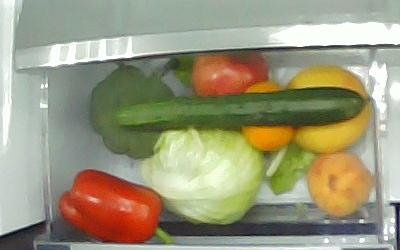apple: (191, 50, 268, 97)
broccoli: (90, 65, 176, 157)
cucumber: (113, 86, 366, 133)
grapefruit: (286, 66, 370, 153)
lettuce: (141, 128, 266, 224)
paprika: (56, 169, 173, 245)
peach: (309, 153, 371, 218)
persimmon: (240, 81, 294, 152)
